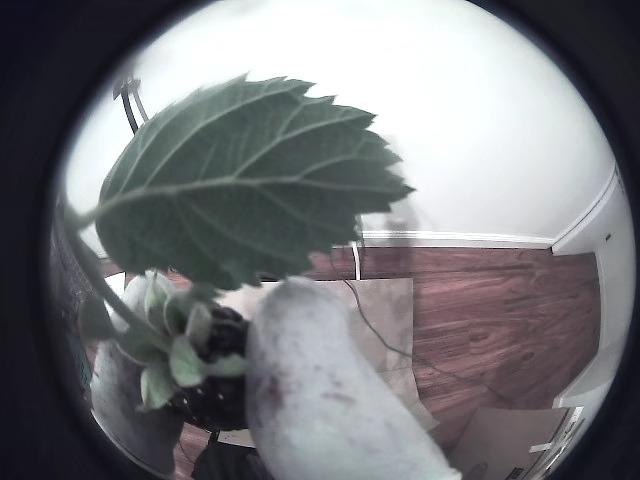berry: (107, 272, 248, 430), (61, 196, 160, 344)
gripper: (246, 277, 460, 479), (90, 341, 182, 479), (120, 275, 151, 319), (109, 307, 128, 333)
lense: (0, 0, 211, 479), (474, 0, 639, 479)
